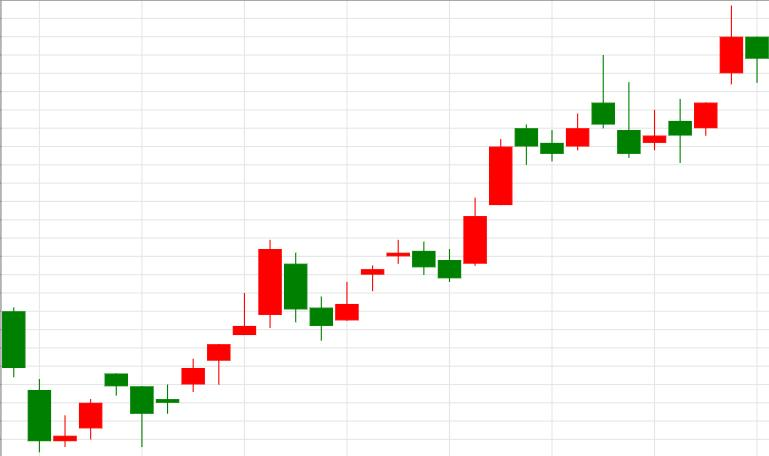shooting_star_fall: (463, 56, 614, 265)
